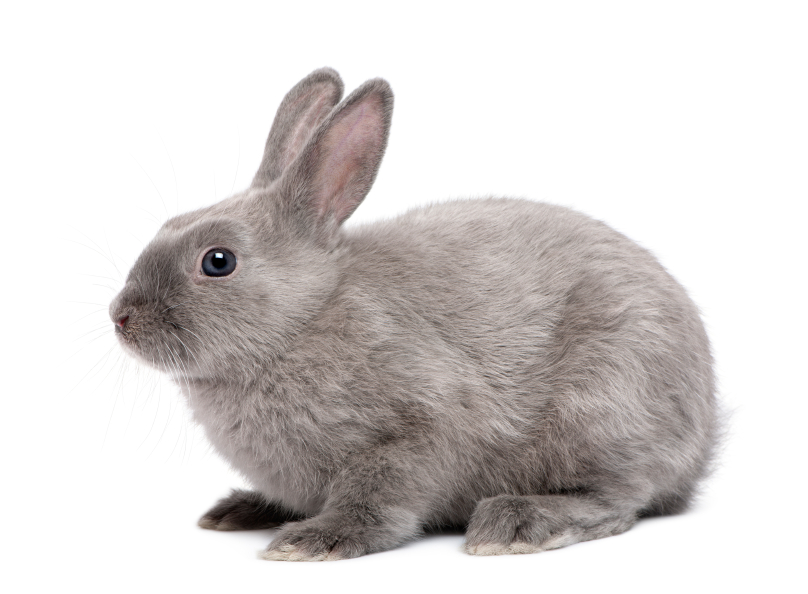bunny: (91, 50, 747, 571)
